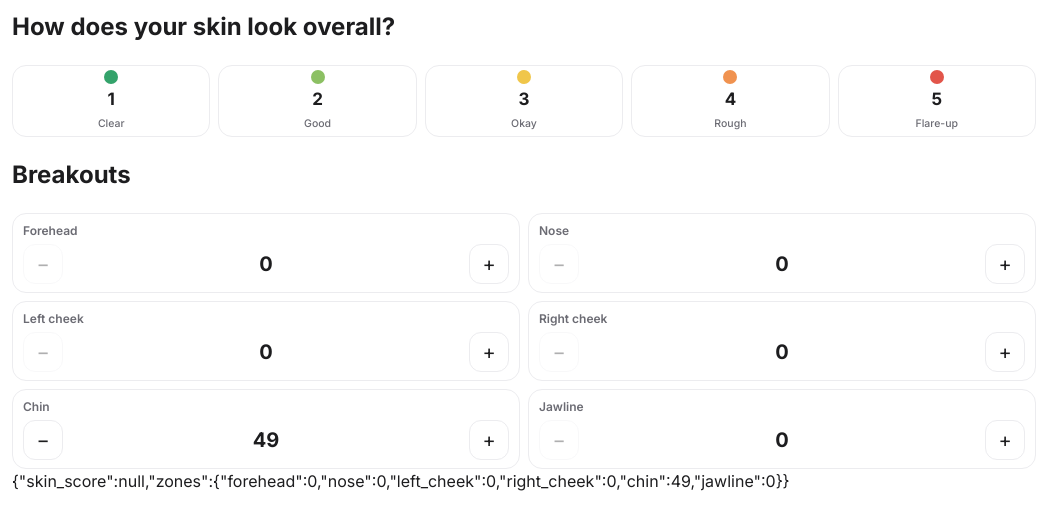
Test: CheckInForm › steps zone counts and stops at 0 and 50
The width and height of the screenshot is (1048, 508).
Expected: the button named "Fewer on forehead" is disabled, [23,244,63,284]
Click the button named "More on forehead" at point(489, 264), box [469,244,509,284]
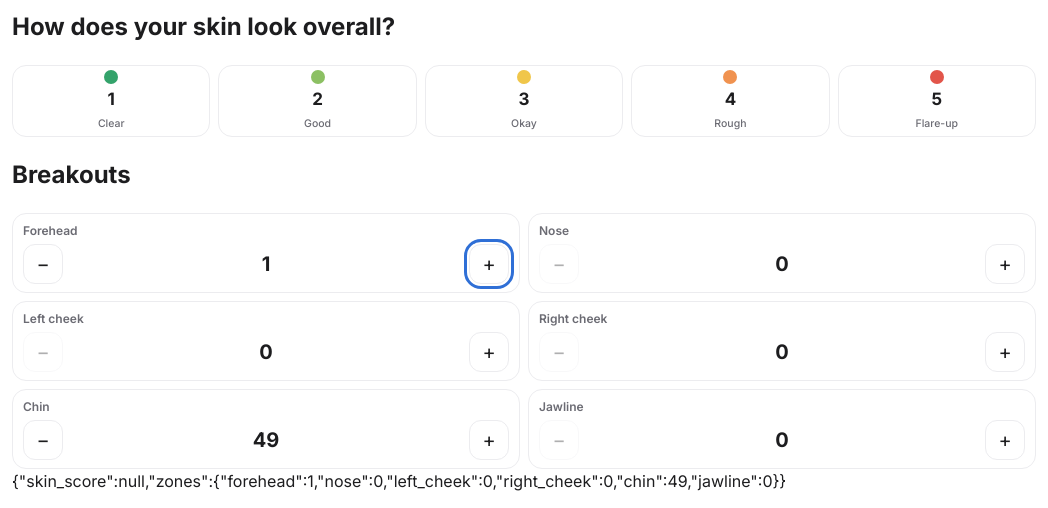
Click the button named "More on chin" at point(489, 440), box [469,420,509,460]
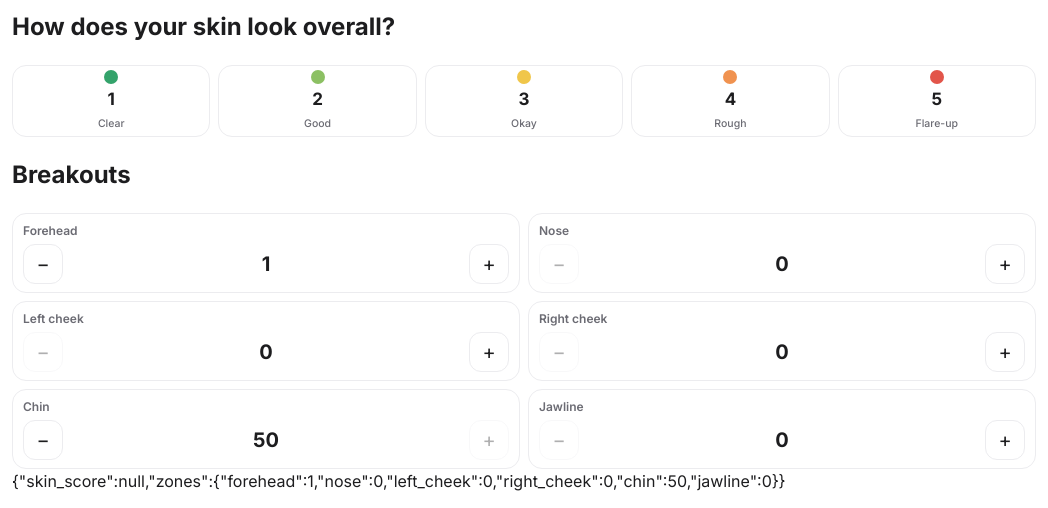
Expected: the button named "More on chin" is disabled, [469,420,509,460]
